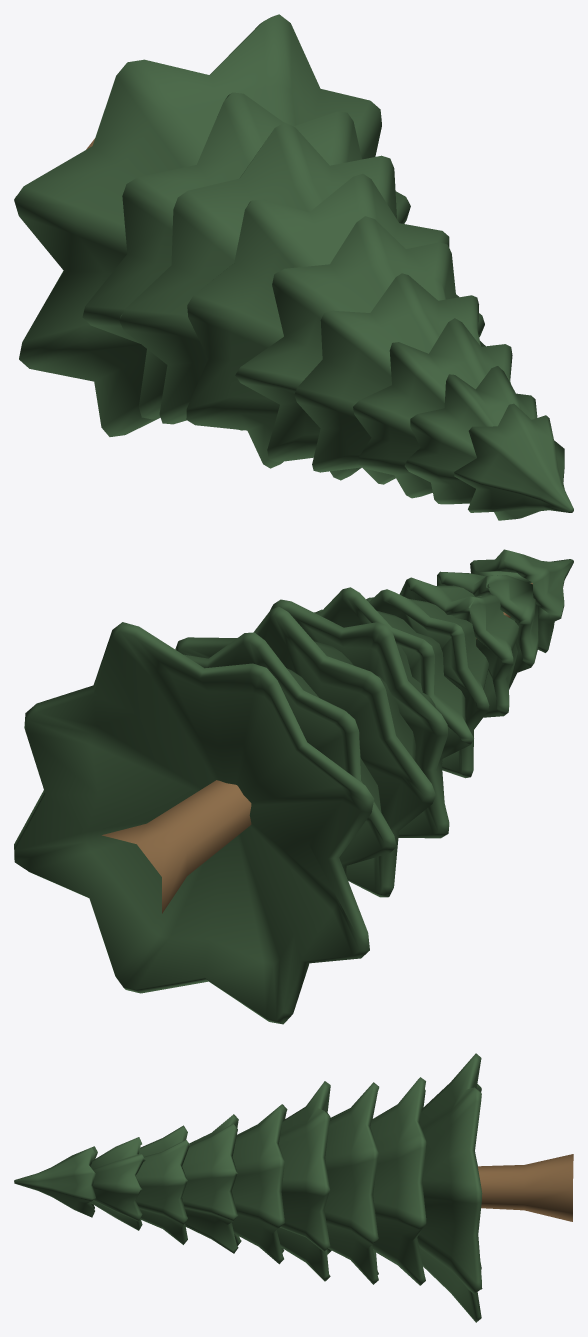
Rendered from tree_pine.glb.
3 renders of one model, top to bottom at view 1: azimuth 30°, elevation 25°; view 2: azimuth 150°, elevation 25°; view 3: azimuth 270°, elevation 25°, orthographic. The views are drawn at different scales.
Visible parts, largest first — view 1: tree_pine; view 2: tree_pine; view 3: tree_pine.
Part boxes in pixels (x1,y1,x2,y2): tree_pine: [14, 14, 573, 520]; tree_pine: [14, 549, 573, 1024]; tree_pine: [14, 1053, 573, 1322].
Bounding box in the file's own units: 2.2 × 2.14 × 4.66.
